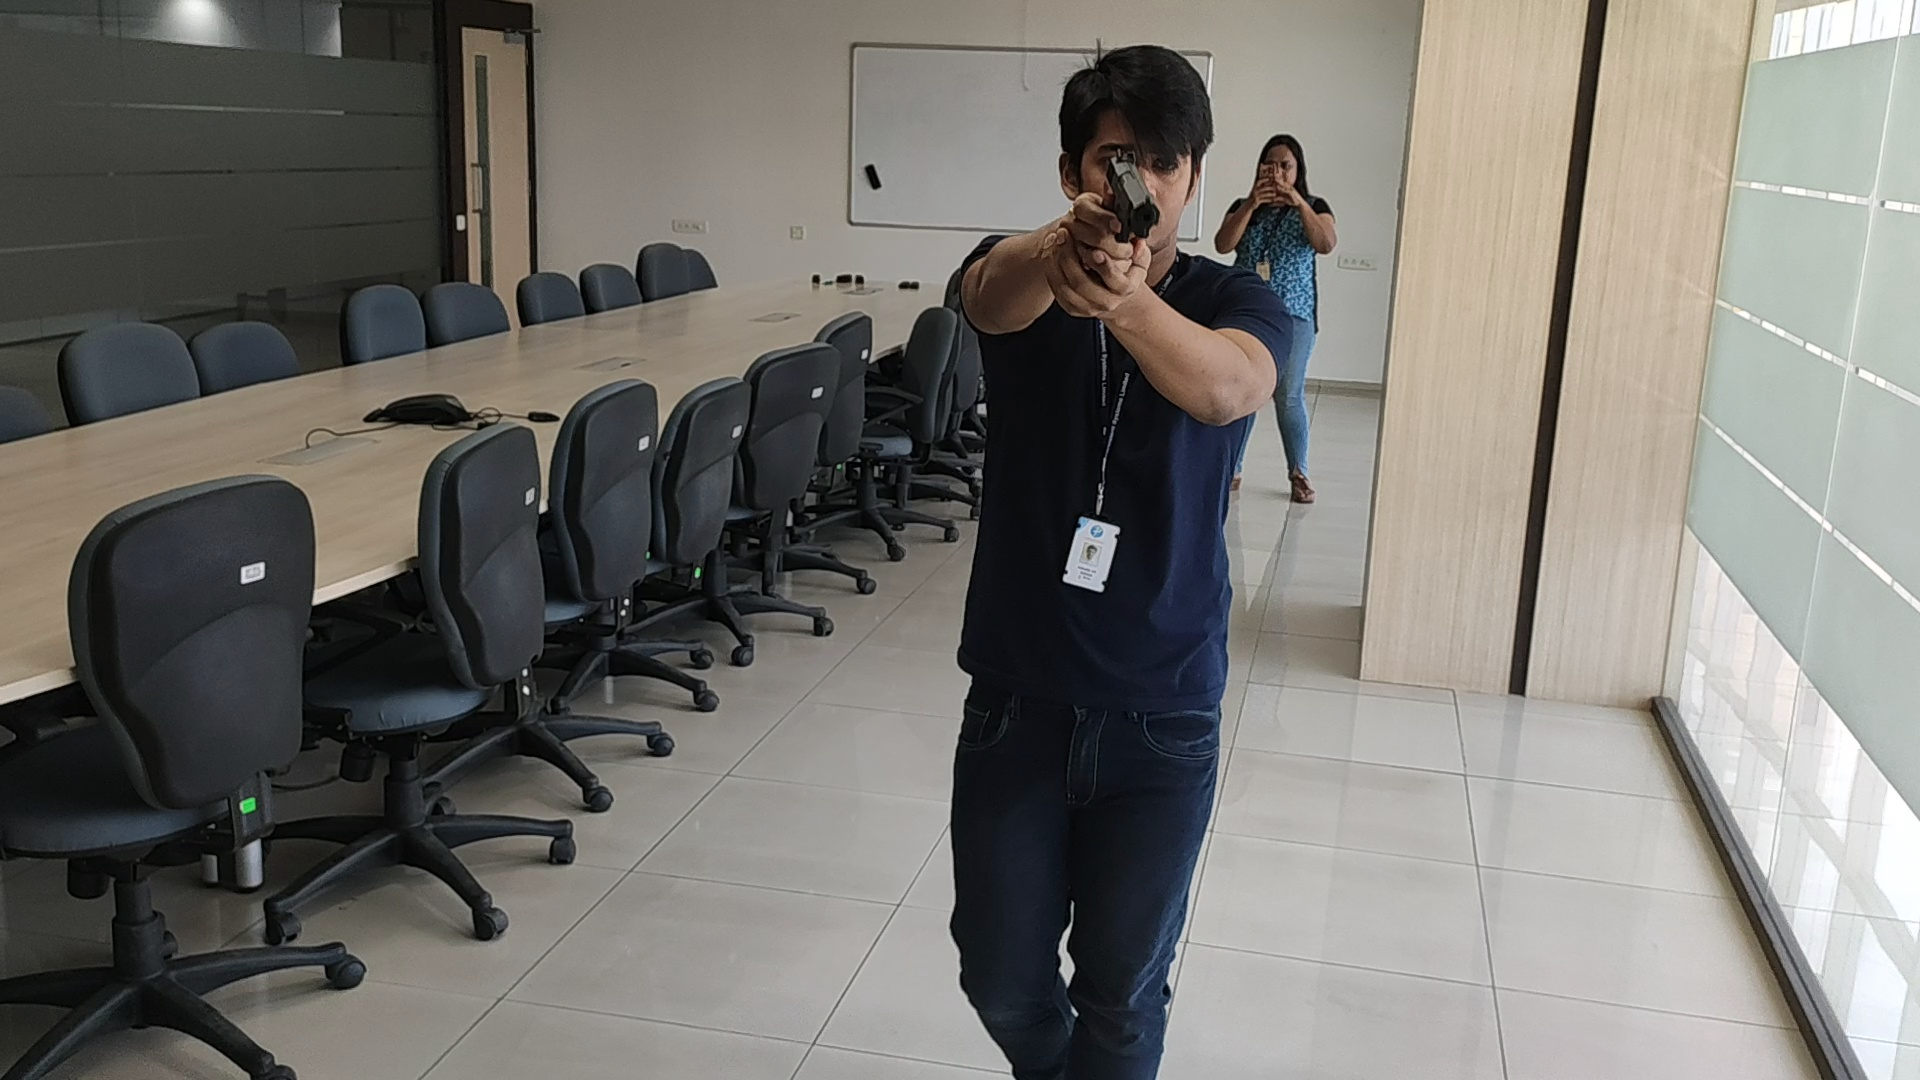gun: (1098, 144, 1163, 244)
